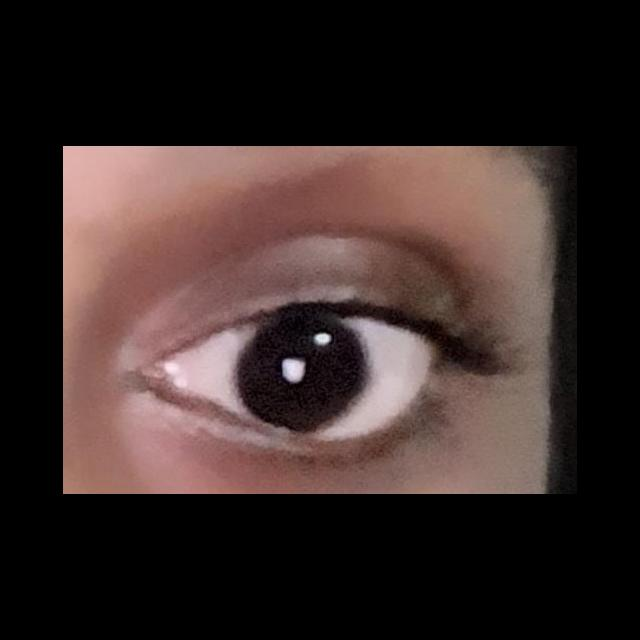eye: (166, 316, 432, 440)
iris: (237, 316, 371, 436)
